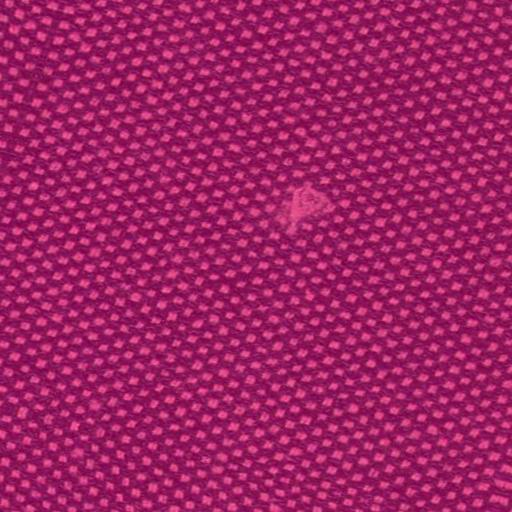knot: (281, 178, 336, 240)
